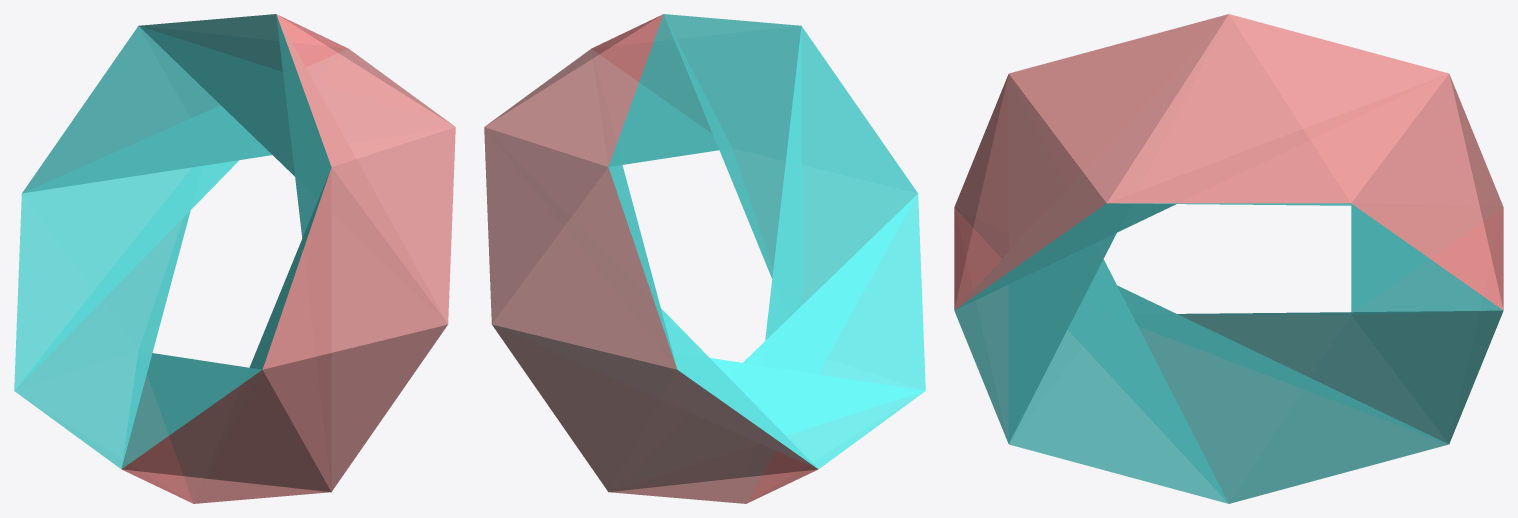
Rendered from AntiHeptagonalIrisToroid.obj.
The picture shows the model from 3 angles, left to right: view 1: azimuth 30°, elevation 25°; view 2: azimuth 150°, elevation 25°; view 3: azimuth 270°, elevation 25°; orthographic projection. The views are drawn at different scales.
Size of the model in its own units: 1.8 by 2.42 by 2.25.
